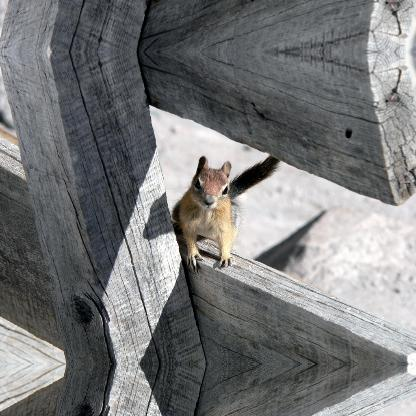Squirrel: (172, 154, 278, 274)
